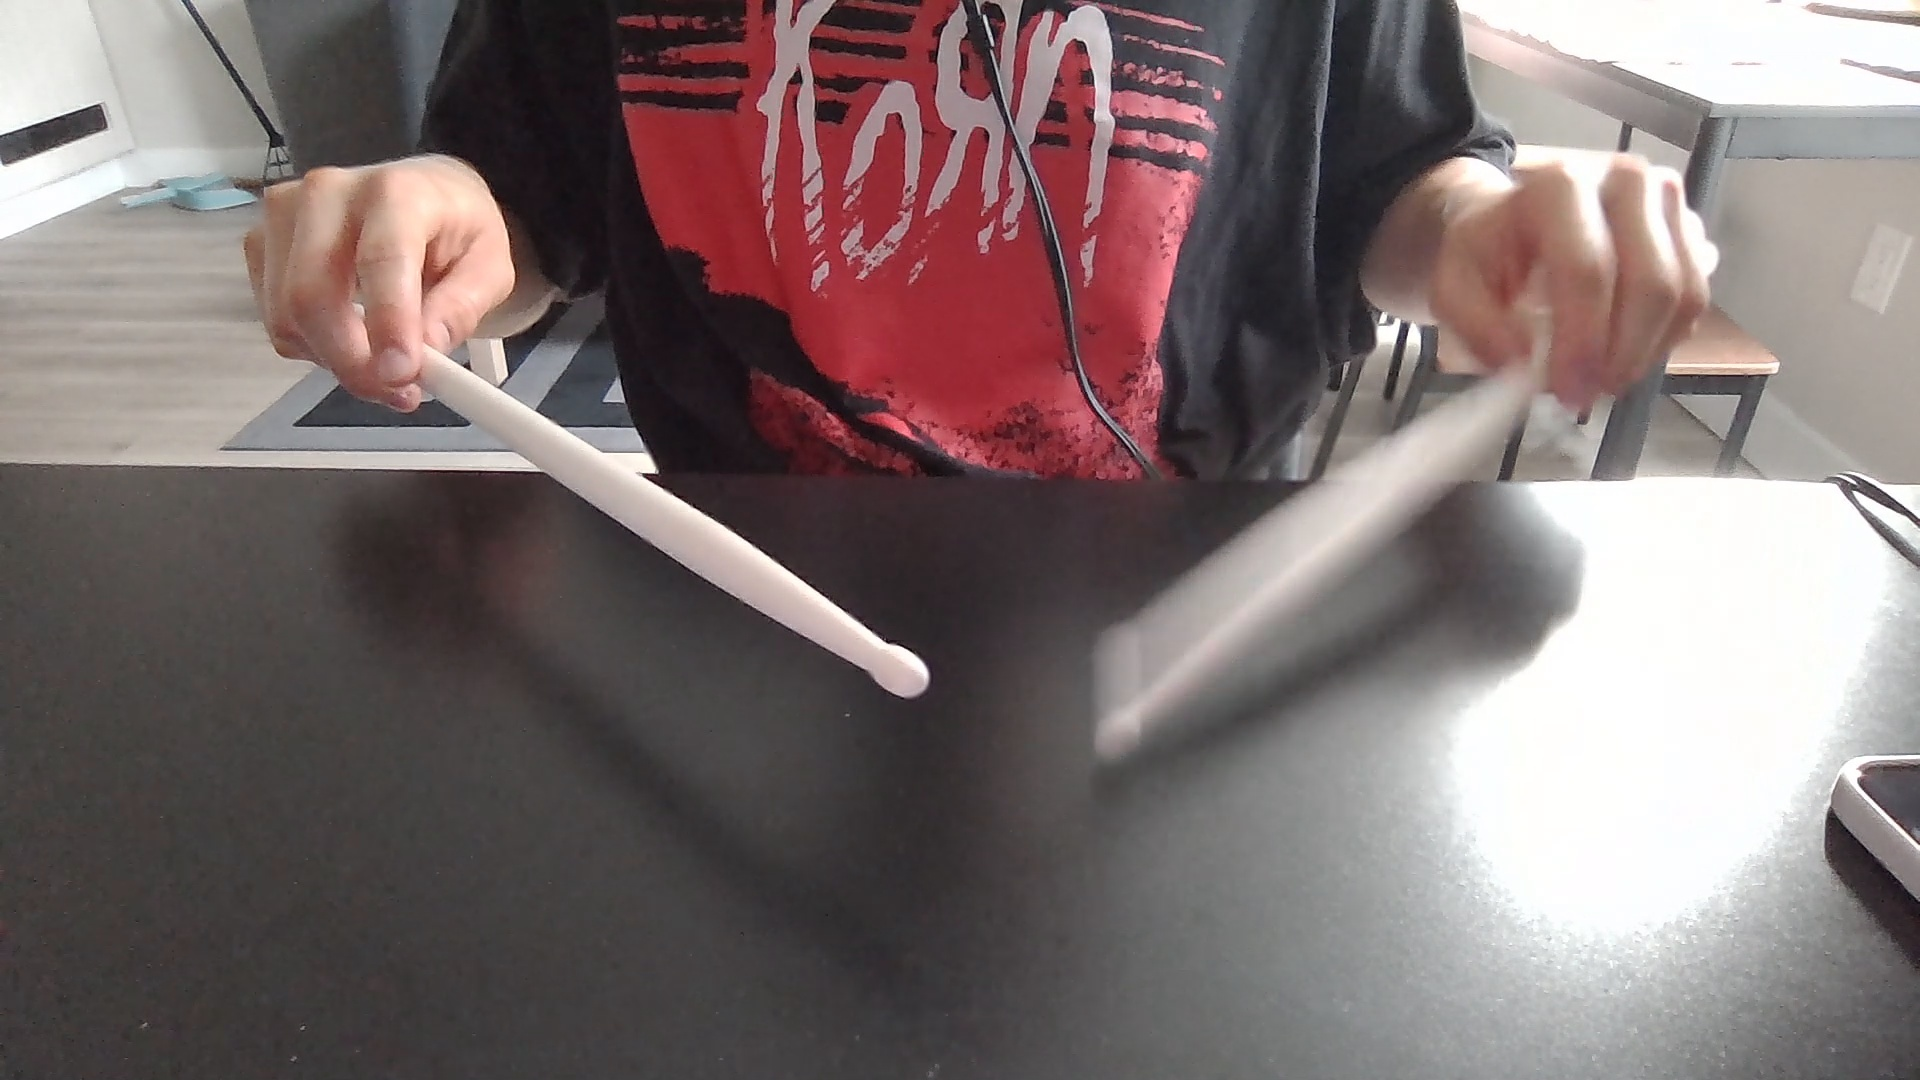left_stick: (855, 625, 948, 719)
right_stick: (1083, 673, 1156, 775)
